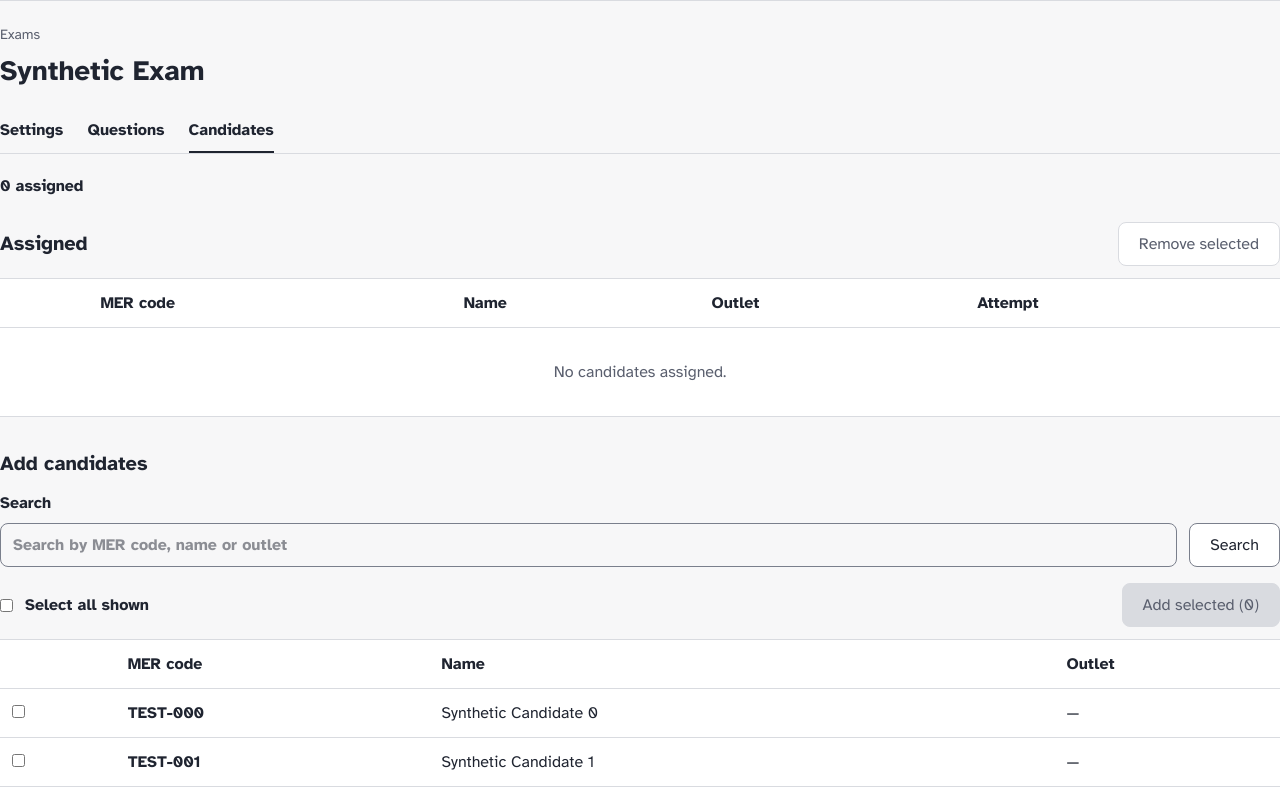
Scenario: ExamCandidates › reloads and reports the completed count when a later add batch fails
Expected: the checkbox named "Select available TEST-000" is shown, [12, 705, 25, 718]
What coordinates should you click on to do the following:
click the checkbox labelled "Select all shown"
I would click on:
 (6, 605)
Its box is [0, 598, 13, 612].
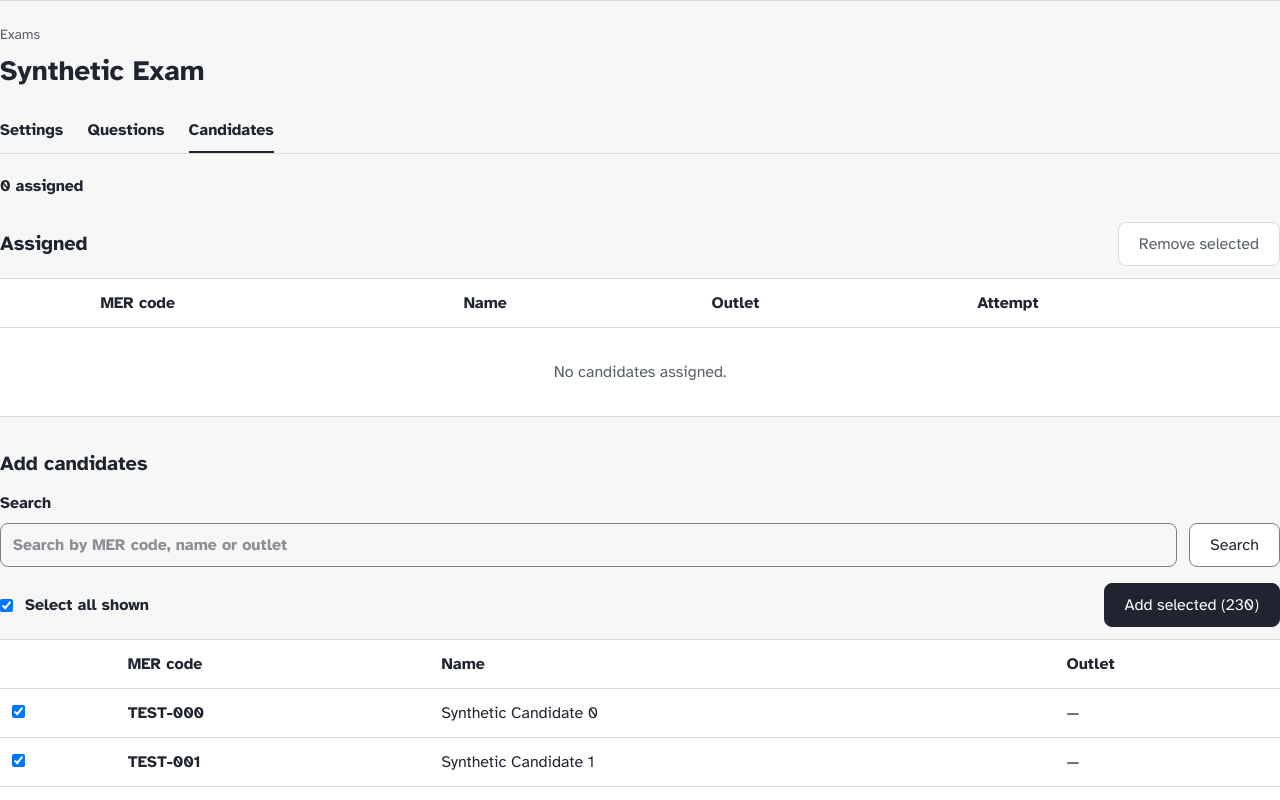
What coordinates should you click on to do the following:
click the button "Add selected (230)"
I would click on:
 (1192, 605)
Its box is [1104, 583, 1279, 627].
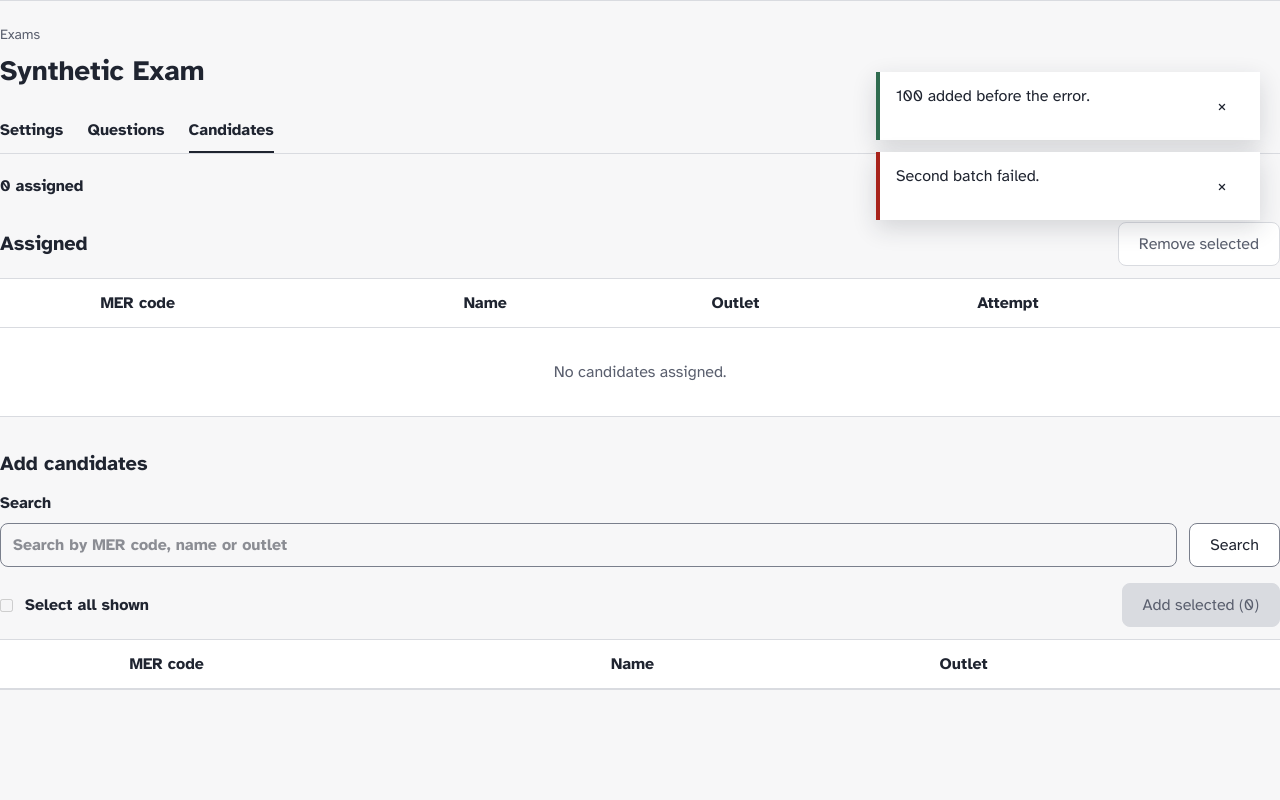
Expected: the text "100 added before the error." is shown, [896, 84, 1090, 108]
Expected: the text "Second batch failed." is shown, [896, 164, 1039, 188]
